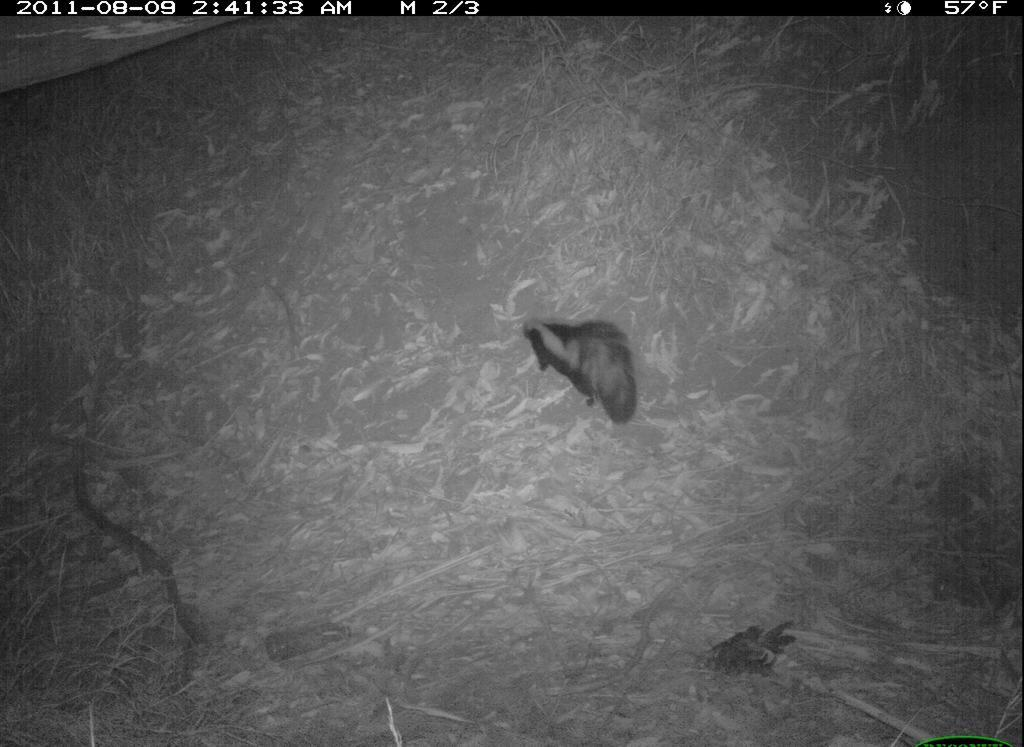skunk: (506, 306, 655, 417)
